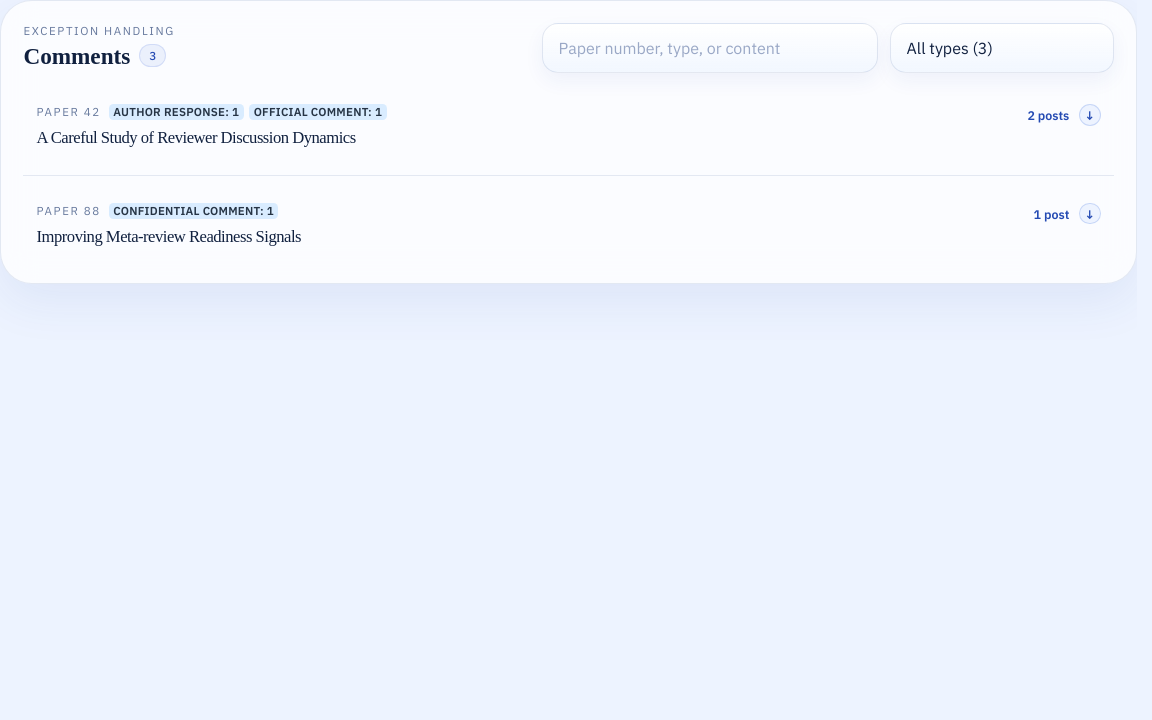
Test: CommentsPanel › collapses paper comment groups by default and shows post counts
Expected: the text named "3 comments" reads "3", [149,48,156,63]
Expected: the text "Official Comment: 1" is shown, [249,104,387,120]
Click the button named "paper 42 a careful study of reviewer discussion dynamics 2 posts" at (60, 112), box [23,92,1114,161]
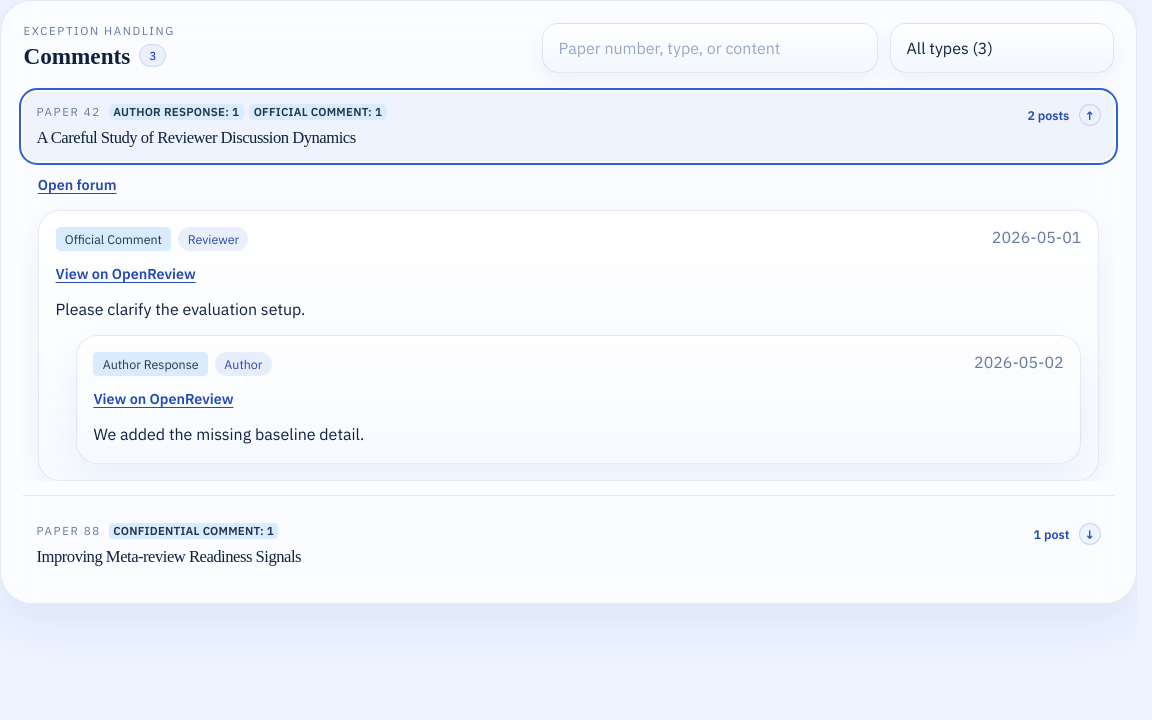
Result: the text "Please clarify the evaluation setup." is shown at [56,299,306,319]
Result: the text "We added the missing baseline detail." is shown at [93,424,364,444]
Result: the link "Open forum" is shown at [38,175,117,194]
